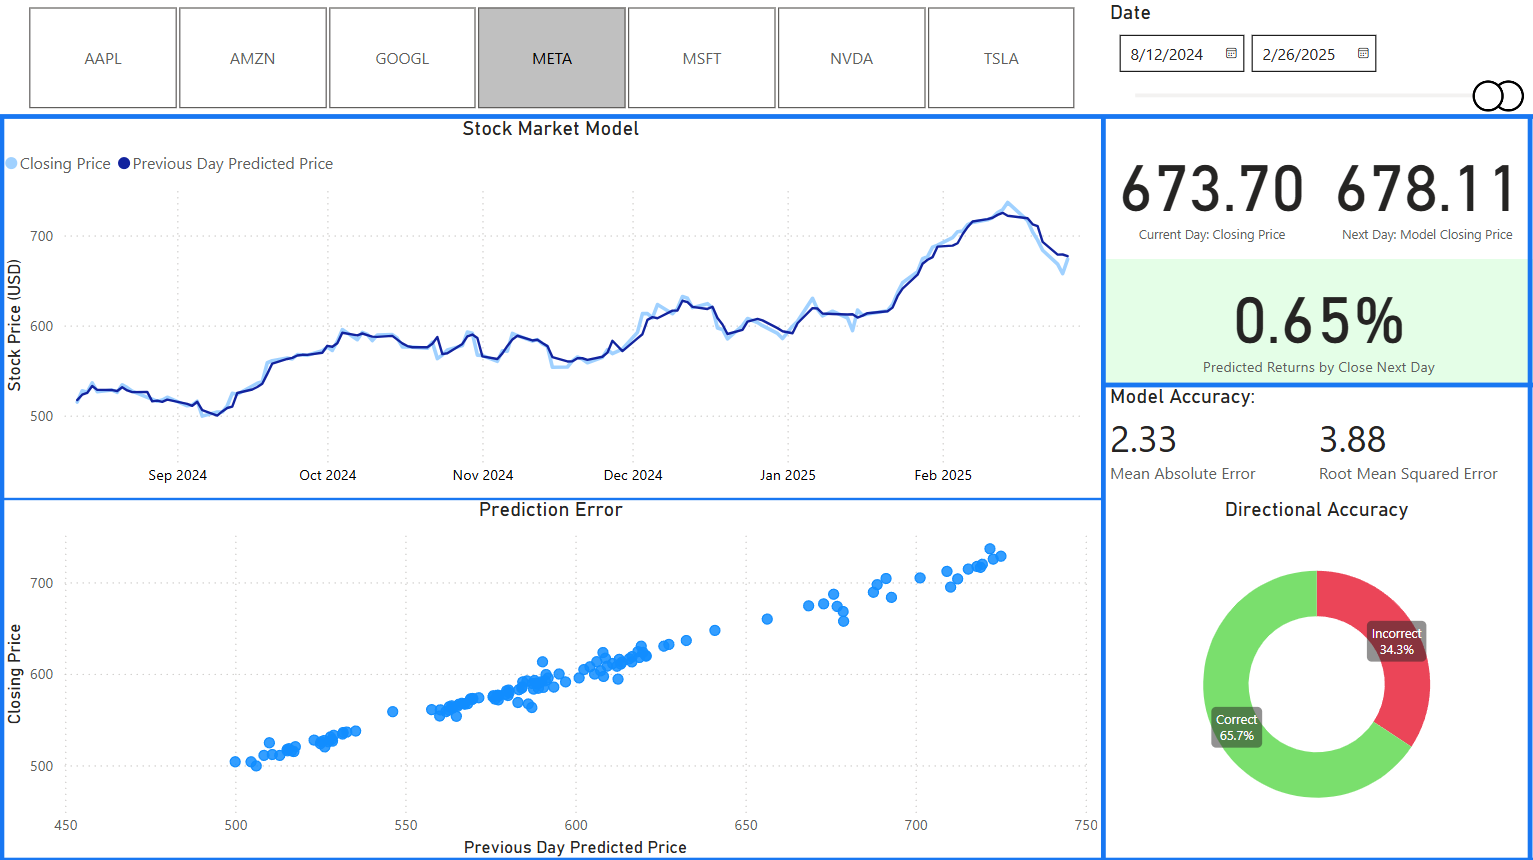

The page's visual inventory and layout, read from the dashboard file:
{"tool":"powerbi","page":{"name":"Model Summary","canvas":[1280,720],"ordinal":0},"visuals":[{"type":"shape","box":[70.6,97.5,850.6,622.5],"z":1000},{"type":"slicer","fields":{"Values":["public predicted_stock_prices.symbol"]},"box":[0,0,921.4,97.9],"z":2000},{"type":"lineChart","title":"Stock Market Model","fields":{"Category":["public predicted_stock_prices.date.Variation.Date Hierarchy.Year","public predicted_stock_prices.date.Variation.Date Hierarchy.Quarter","public predicted_stock_prices.date.Variation.Date Hierarchy.Month","public predicted_stock_prices.date.Variation.Date Hierarchy.Day"],"Y":["Sum(public predicted_stock_prices.Closing Price)","Sum(public predicted_stock_prices.Previous Day Predicted Price)"]},"box":[0,97.8,921.4,317.5],"z":3000},{"type":"card","fields":{"Values":["public predicted_stock_prices.Next Business Day Model Output % difference from Current Business Day Closing 2"]},"box":[921.4,216.9,357.9,104.2],"z":4000},{"type":"card","title":"Next Business Day Model Output:","fields":{"Values":["public predicted_stock_prices.Next Business Day Model Output"]},"box":[1101.4,104.2,178.6,108.4],"z":5000},{"type":"card","title":"Next Business Day Model Output:","fields":{"Values":["public predicted_stock_prices.Current Business Day Closing"]},"box":[921.4,104.2,180,108.4],"z":6000},{"type":"slicer","title":"Date","fields":{"Values":["public predicted_stock_prices.Date"]},"box":[921.8,0.9,357.3,103.6],"z":7000},{"type":"multiRowCard","title":"Model Accuracy:","fields":{"Values":["public model_eval.mae","public model_eval.rmse"]},"box":[921.4,321.1,357.9,94.3],"z":8000},{"type":"scatterChart","title":"Prediction Error","fields":{"Y":["public predicted_stock_prices.Closing Price"],"X":["public predicted_stock_prices.Previous Day Predicted Price"]},"box":[0,415.3,921.4,304.8],"z":9000},{"type":"donutChart","title":"Directional Accuracy","fields":{"Y":["Avg(public model_eval.Directional_Inaccuracy)","Avg(public model_eval.Directional_Accuracy_Percent)"]},"box":[920.8,415.4,356.2,293.1],"z":10000},{"type":"shape","box":[0,409.2,921.7,15],"z":11000},{"type":"shape","box":[921.2,291.2,358.8,60],"z":12000},{"type":"shape","box":[0,708.5,1280,11.5],"z":12001},{"type":"shape","box":[0,91.7,1280,12.5],"z":12002},{"type":"shape","box":[914.6,97.7,12.3,622.3],"z":12003},{"type":"shape","box":[1267.5,97.5,12.5,622.5],"z":12004},{"type":"shape","box":[0,97.5,12.5,622.5],"z":12005}]}

Visuals, with their boxes in screenshot pixels (x1, y1, x2, y2), scaled from the page's 1280x720 canvas onto the 1533x860 screenshot:
shape: [left=85, top=116, right=1103, bottom=859]
slicer - public predicted_stock_prices.symbol: [left=0, top=0, right=1104, bottom=117]
"Stock Market Model" lineChart: [left=0, top=117, right=1104, bottom=496]
card - public predicted_stock_prices.Next Business Day Model Output % difference from Current Business Day Closing 2: [left=1104, top=259, right=1532, bottom=384]
"Next Business Day Model Output:" card: [left=1319, top=124, right=1532, bottom=254]
"Next Business Day Model Output:" card: [left=1104, top=124, right=1319, bottom=254]
"Date" slicer: [left=1104, top=1, right=1532, bottom=125]
"Model Accuracy:" multiRowCard: [left=1104, top=384, right=1532, bottom=496]
"Prediction Error" scatterChart: [left=0, top=496, right=1104, bottom=859]
"Directional Accuracy" donutChart: [left=1103, top=496, right=1529, bottom=846]
shape: [left=0, top=489, right=1104, bottom=507]
shape: [left=1103, top=348, right=1532, bottom=419]
shape: [left=0, top=846, right=1532, bottom=859]
shape: [left=0, top=110, right=1532, bottom=124]
shape: [left=1095, top=117, right=1110, bottom=859]
shape: [left=1518, top=116, right=1532, bottom=859]
shape: [left=0, top=116, right=15, bottom=859]
